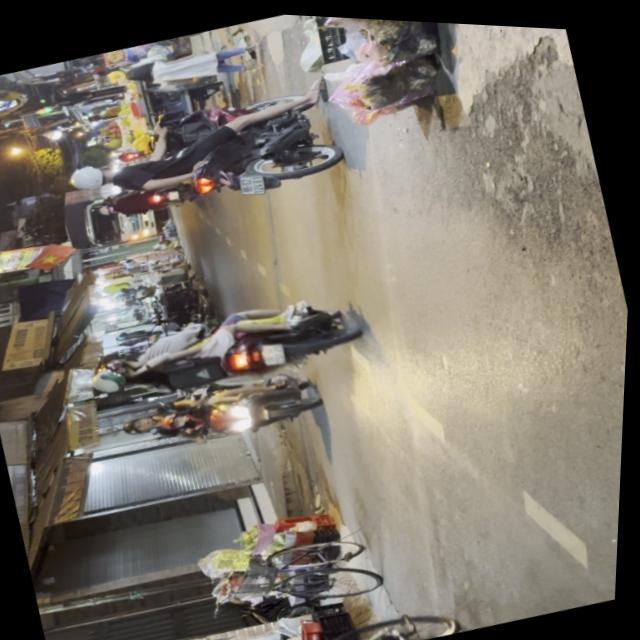helmet: (89, 357, 146, 399), (66, 158, 113, 194), (122, 411, 162, 438), (160, 406, 196, 431)
licenseplate: (53, 63, 352, 244), (79, 272, 371, 424), (118, 355, 330, 467), (121, 578, 477, 640)
nohelmet: (237, 166, 267, 194), (261, 337, 289, 365)
